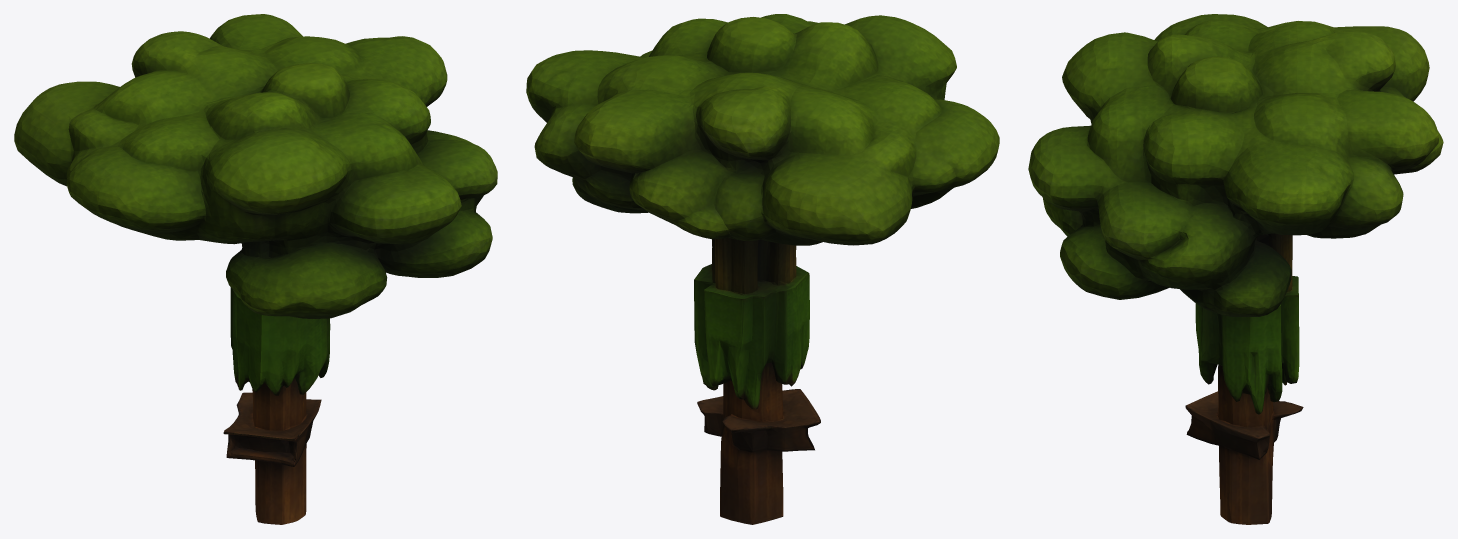
File: green_tree_minecraft.glb
The picture shows the model from 3 angles, left to right: view 1: azimuth 30°, elevation 25°; view 2: azimuth 150°, elevation 25°; view 3: azimuth 270°, elevation 25°; orthographic projection. The views are drawn at different scales.
Parts seen in each view (by area): view 1: world; view 2: world; view 3: world.
Part boxes in pixels (x1,y1,x2,y2): world: (14,14,497,524); world: (526,14,999,524); world: (1028,14,1443,524).
Size of the model in its own units: 0.9215 by 0.9999 by 0.8279.
Materials: 1 (1 with a texture image).
